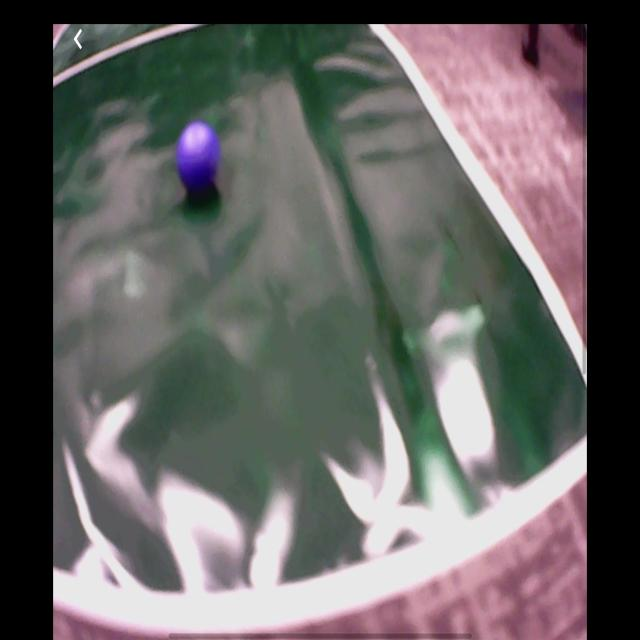ball: (177, 121, 222, 193)
